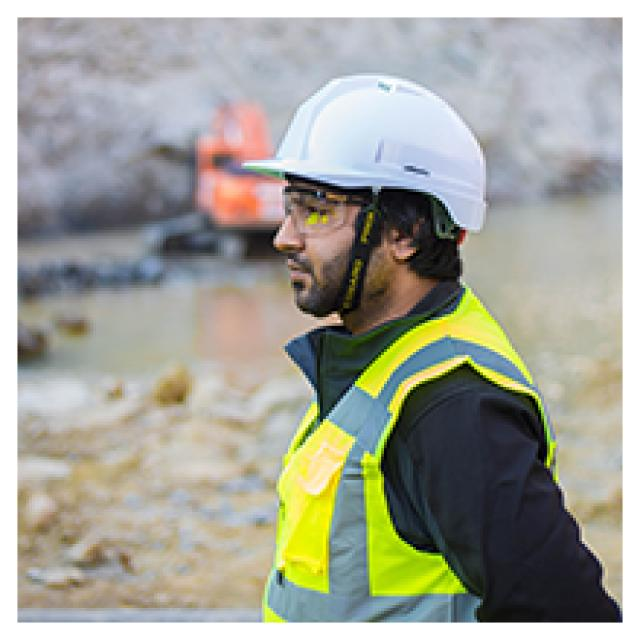Reflective-Jacket: (256, 296, 567, 616)
Safety-Helmet: (245, 67, 494, 230)
